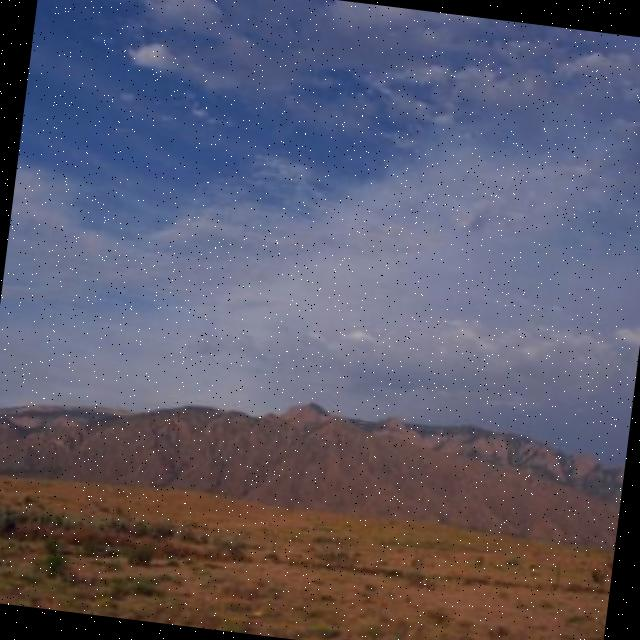Cs: (1, 1, 640, 405)
